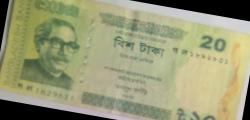20 taka: (14, 1, 242, 120)
